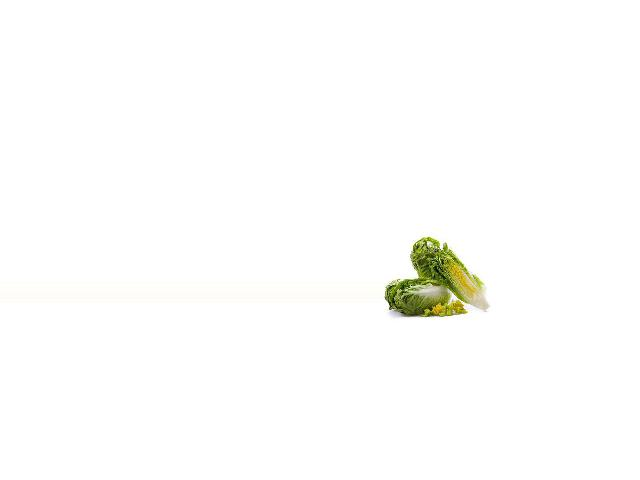lettuce: (386, 275, 458, 319)
